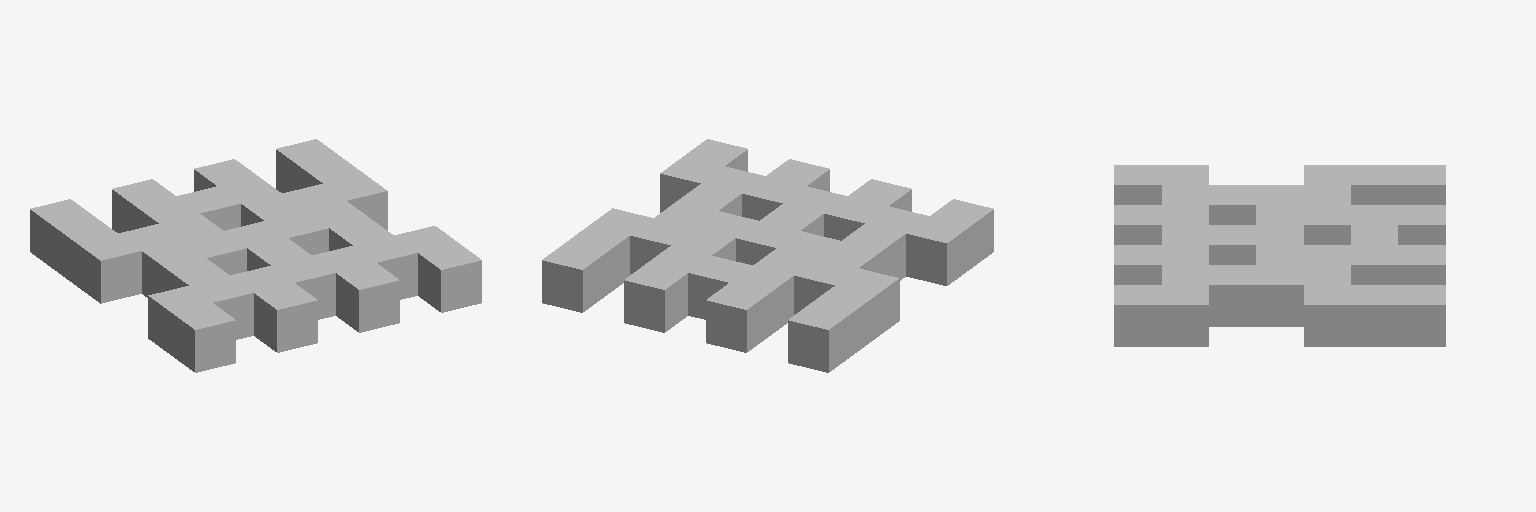
File: invader3.obj
3 views of the same model, side by side, from view 1: azimuth 30°, elevation 25°; view 2: azimuth 150°, elevation 25°; view 3: azimuth 270°, elevation 25° (orthographic).
Parts seen in each view (by area): view 1: Object.10, Object.32, Object.31, Object.33, Object.34, Object.24, Object.26, Object.28, Object.4, Object.29, Object.6, Object.15 (+22 smaller); view 2: Object.29, Object.2, Object.6, Object.3, Object.5, Object.9, Object.4, Object.10, Object.1, Object.8, Object.31, Object.21 (+22 smaller); view 3: Object.5, Object.20, Object.34, Object.1, Object.15, Object.23, Object.30, Object.2, Object.3, Object.6, Object.31, Object.32 (+22 smaller).
Boxes of the visible parts, x1,y1,x2,y2 form: Object.10: [77, 234, 141, 303]; Object.32: [254, 283, 317, 352]; Object.31: [172, 303, 235, 372]; Object.33: [336, 263, 399, 332]; Object.34: [418, 243, 481, 312]; Object.24: [189, 276, 253, 339]; Object.26: [271, 256, 335, 319]; Object.28: [353, 236, 417, 299]; Object.4: [53, 216, 117, 285]; Object.29: [148, 286, 211, 355]; Object.6: [30, 199, 92, 268]; Object.15: [323, 174, 387, 230]; Object.29: [906, 216, 970, 285]; Object.2: [706, 283, 769, 352]; Object.6: [788, 303, 851, 372]; Object.3: [624, 263, 687, 332]; Object.5: [542, 243, 605, 312]; Object.9: [688, 256, 752, 319]; Object.4: [812, 286, 875, 355]; Object.10: [835, 268, 899, 337]; Object.1: [566, 226, 629, 295]; Object.8: [730, 266, 793, 335]; Object.31: [931, 199, 993, 268]; Object.21: [842, 224, 905, 280]; Object.5: [1398, 285, 1445, 346]; Object.20: [1256, 265, 1303, 326]; Object.34: [1114, 285, 1161, 346]; Object.1: [1351, 285, 1397, 346]; Object.15: [1304, 285, 1350, 346]; Object.23: [1209, 265, 1255, 326]; Object.30: [1162, 285, 1208, 346]; Object.2: [1398, 205, 1445, 244]; Object.3: [1398, 245, 1445, 284]; Object.6: [1398, 165, 1445, 204]; Object.31: [1114, 165, 1161, 204]; Object.32: [1114, 205, 1161, 244].
Bounding box in the file's own units: 0.8265 × 0.1181 × 0.8265.